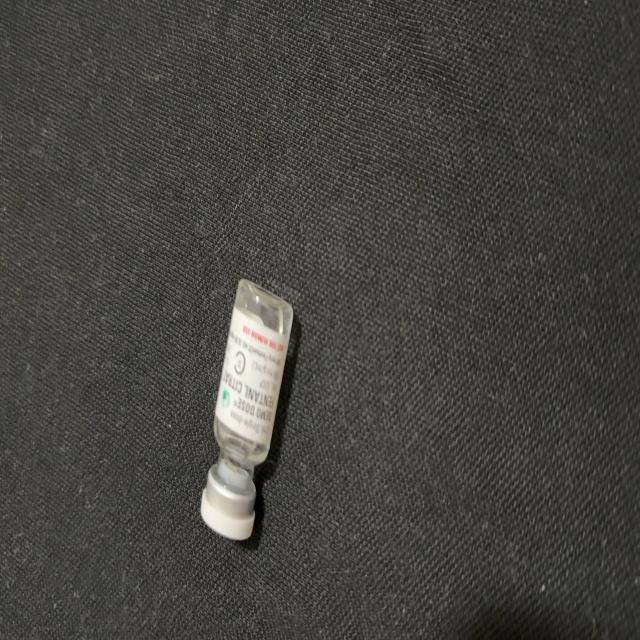fentanl_citrat: (202, 283, 292, 537)
